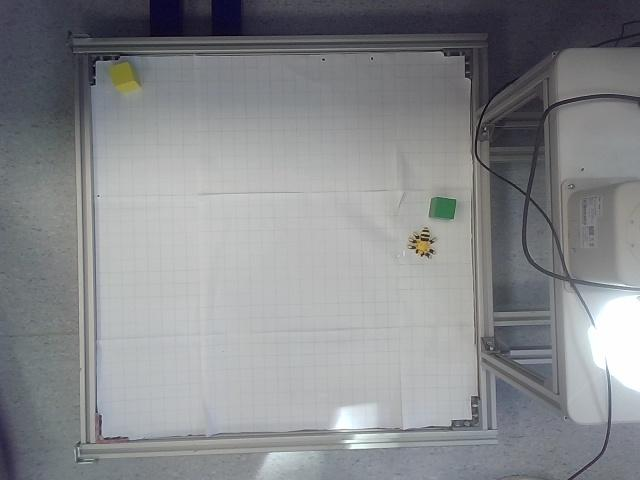frelon: (407, 227, 437, 259)
